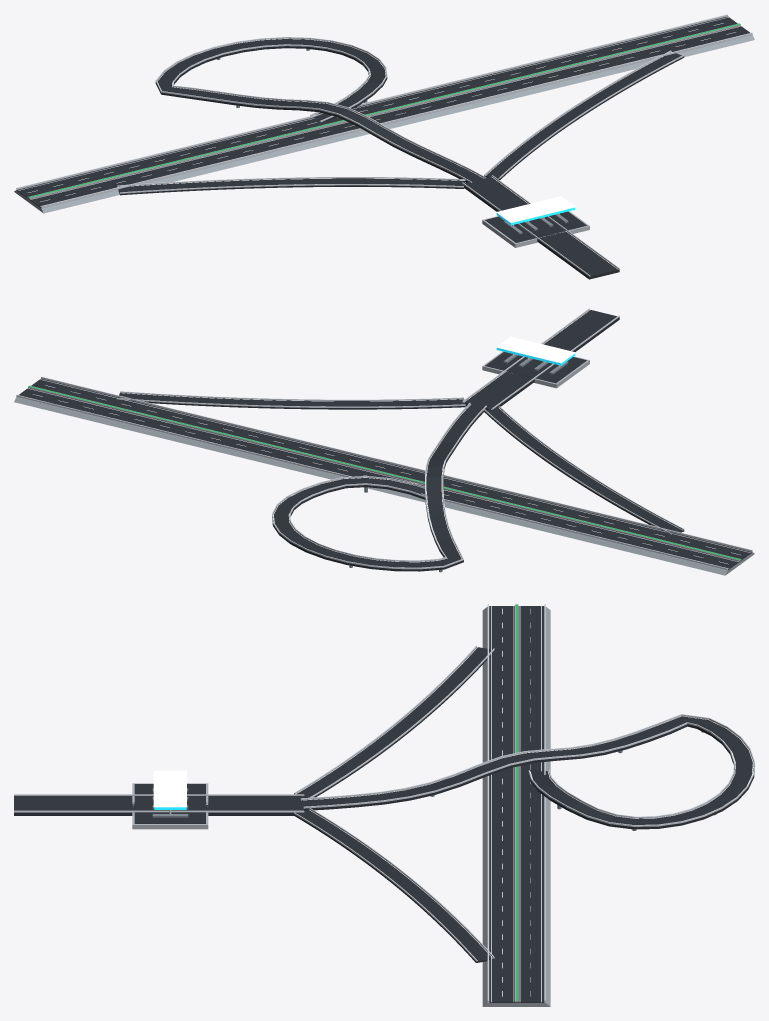
The model's file is interchange-trumpet.glb.
3 renders of one model, top to bottom at view 1: azimuth 30°, elevation 25°; view 2: azimuth 150°, elevation 25°; view 3: azimuth 270°, elevation 25°, orthographic. The views are drawn at different scales.
Visible parts, largest first — view 1: MainlineAsphalt, TrumpetLoopRamp, MainlineEmbank, TollConnector, BranchRamp_Left, BranchRamp_Right, MainX_MedianCurb, MainX_RailR, MainX_RailL, TrumpetLoopRamp_Rail_L, TrumpetLoopRamp_Rail_R, TollPlazaAsphalt (+10 smaller); view 2: MainlineAsphalt, TrumpetLoopRamp, MainlineEmbank, TollConnector, BranchRamp_Right, BranchRamp_Left, MainX_MedianCurb, MainX_RailR, MainX_RailL, TollPlazaAsphalt, MainX_MedianGreen, TrumpetLoopRamp_Rail_L (+10 smaller); view 3: MainlineAsphalt, TrumpetLoopRamp, MainlineEmbank, TollConnector, BranchRamp_Right, BranchRamp_Left, TrumpetLoopRamp_Rail_L, TollPlazaAsphalt, TrumpetLoopRamp_Rail_R, TollCanopyTrim, MainX_MedianCurb, MainX_MedianGreen (+5 smaller).
Boxes of the visible parts, <box> form: MainlineAsphalt: <box>17,16,749,207</box>; TrumpetLoopRamp: <box>155,38,483,182</box>; MainlineEmbank: <box>14,16,754,213</box>; TollConnector: <box>464,176,619,279</box>; BranchRamp_Left: <box>118,178,465,195</box>; BranchRamp_Right: <box>484,53,684,179</box>; MainX_MedianCurb: <box>28,23,740,199</box>; MainX_RailR: <box>41,32,752,207</box>; MainX_RailL: <box>16,14,727,189</box>; TrumpetLoopRamp_Rail_L: <box>155,37,471,182</box>; TrumpetLoopRamp_Rail_R: <box>173,44,485,178</box>; TollPlazaAsphalt: <box>485,211,586,242</box>; MainlineAsphalt: <box>19,378,751,569</box>; TrumpetLoopRamp: <box>272,404,485,571</box>; MainlineEmbank: <box>14,379,754,575</box>; TollConnector: <box>464,310,619,409</box>; BranchRamp_Right: <box>119,392,465,409</box>; BranchRamp_Left: <box>484,407,684,532</box>; MainX_MedianCurb: <box>28,385,740,561</box>; MainX_RailR: <box>41,376,752,551</box>; MainX_RailL: <box>16,395,727,570</box>; TollPlazaAsphalt: <box>485,352,586,383</box>; MainX_MedianGreen: <box>28,385,740,559</box>; TrumpetLoopRamp_Rail_L: <box>272,405,486,569</box>; MainlineAsphalt: <box>489,606,544,1002</box>; TrumpetLoopRamp: <box>301,716,754,829</box>; MainlineEmbank: <box>482,606,550,1006</box>; TollConnector: <box>14,796,304,815</box>; BranchRamp_Right: <box>294,810,489,962</box>; BranchRamp_Left: <box>296,647,492,797</box>; TrumpetLoopRamp_Rail_L: <box>300,714,754,826</box>; TollPlazaAsphalt: <box>134,784,205,823</box>; TrumpetLoopRamp_Rail_R: <box>303,722,734,818</box>; TollCanopyTrim: <box>153,770,186,807</box>; MainX_MedianCurb: <box>514,604,518,1002</box>; MainX_MedianGreen: <box>515,604,517,1000</box>.
Size of the model in its own units: 420 by 11.32 by 332.
